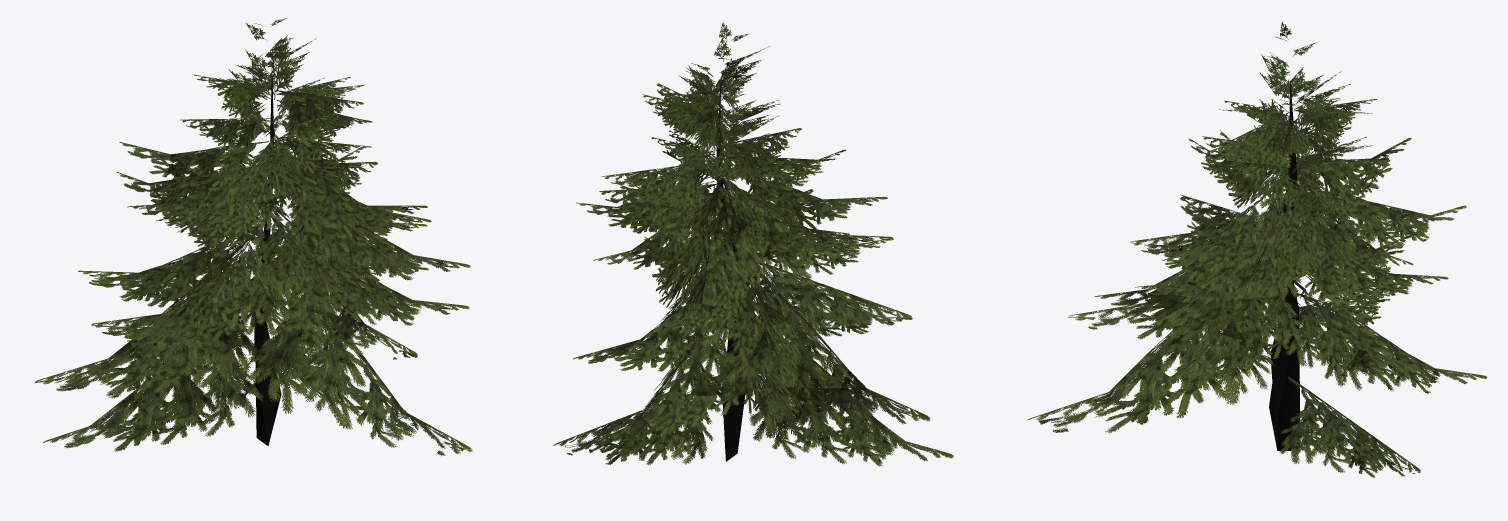
Rendered from spruce2 lod2.FBX.
3 views of the same model, side by side, from view 1: azimuth 30°, elevation 25°; view 2: azimuth 150°, elevation 25°; view 3: azimuth 270°, elevation 25° (orthographic).
Parts seen in each view (by area): view 1: spruce2_LOD2; view 2: spruce2_LOD2; view 3: spruce2_LOD2.
Boxes of the visible parts, x1=… form: spruce2_LOD2: x1=34, y1=18, x2=472, y2=455; spruce2_LOD2: x1=553, y1=21, x2=953, y2=466; spruce2_LOD2: x1=1027, y1=21, x2=1487, y2=477.
Size of the model in its own units: 83955 by 88990 by 92284.
